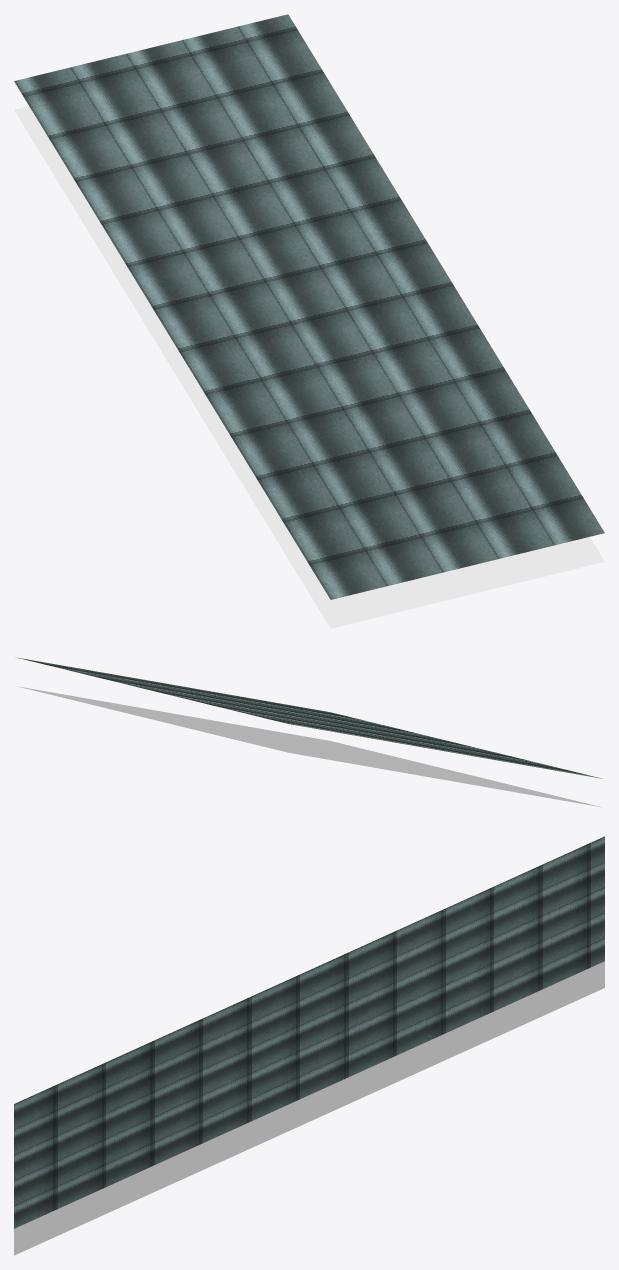
Rendered from roof_mid_2x4.glb.
3 views of the same model, one above another, from view 1: azimuth 30°, elevation 25°; view 2: azimuth 150°, elevation 25°; view 3: azimuth 270°, elevation 25° (orthographic). The views are drawn at different scales.
Visible parts, largest first — view 1: roof_mid_2x4; view 2: roof_mid_2x4; view 3: roof_mid_2x4.
Part boxes in pixels (x1,y1,x2,y2): roof_mid_2x4: (14,14,604,628); roof_mid_2x4: (17,657,601,807); roof_mid_2x4: (14,836,604,1255).
Size of the model in its own units: 2 by 2.2 by 4.
Materials: 2 (1 with a texture image).
